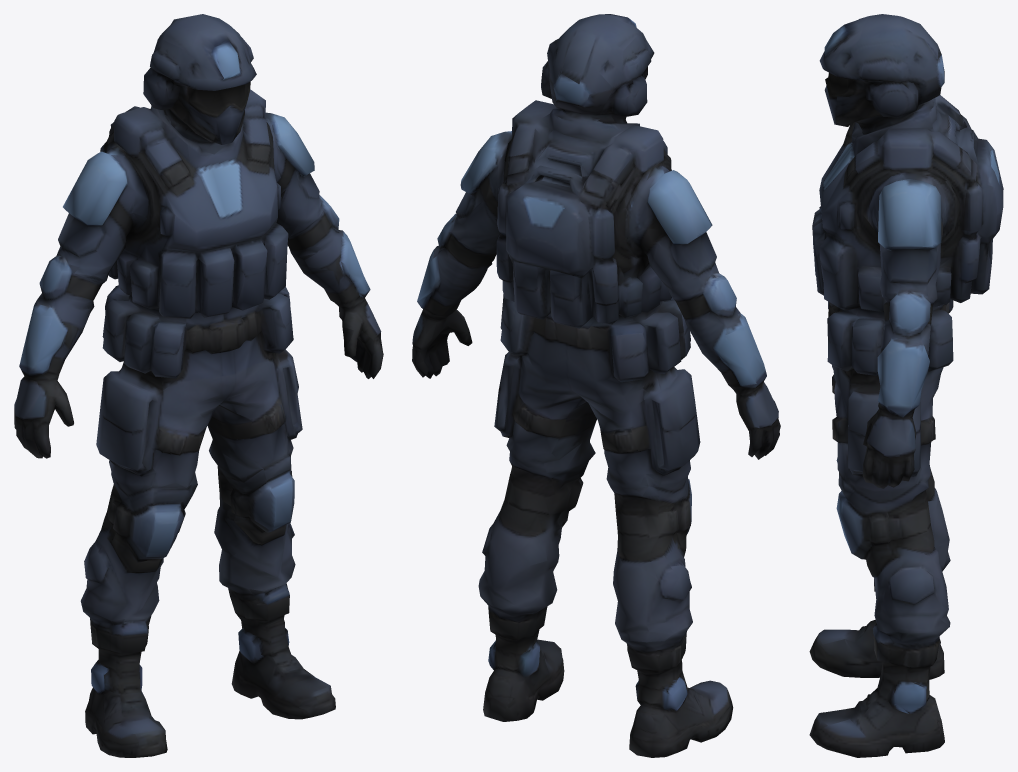
Rendered from blue-soldier-lod1.fbx.
3 renders of one model, left to right at view 1: azimuth 30°, elevation 25°; view 2: azimuth 150°, elevation 25°; view 3: azimuth 270°, elevation 25°, orthographic.
Parts seen in each view (by area): view 1: BlueSoldier_LOD1; view 2: BlueSoldier_LOD1; view 3: BlueSoldier_LOD1.
Boxes of the visible parts, bbox=[...] form: BlueSoldier_LOD1: bbox=[14, 14, 383, 757]; BlueSoldier_LOD1: bbox=[412, 14, 780, 757]; BlueSoldier_LOD1: bbox=[809, 14, 1003, 757].
Bounding box in the file's own units: 96.85 × 180 × 46.03.
Materials: 1 (1 with a texture image).
